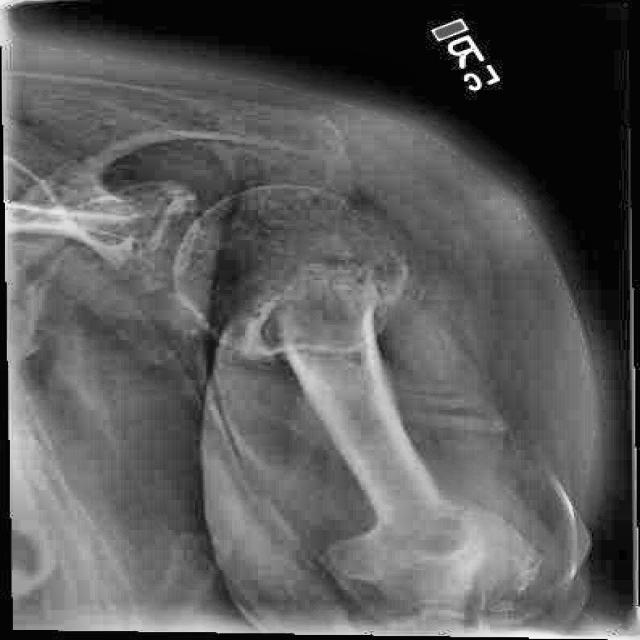shoulder fracture: (194, 259, 443, 428)
